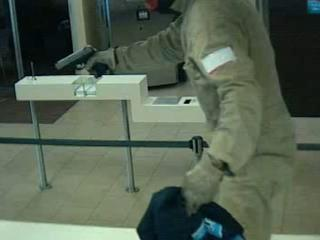criminal: (54, 0, 297, 240)
weapon: (54, 44, 109, 79)
